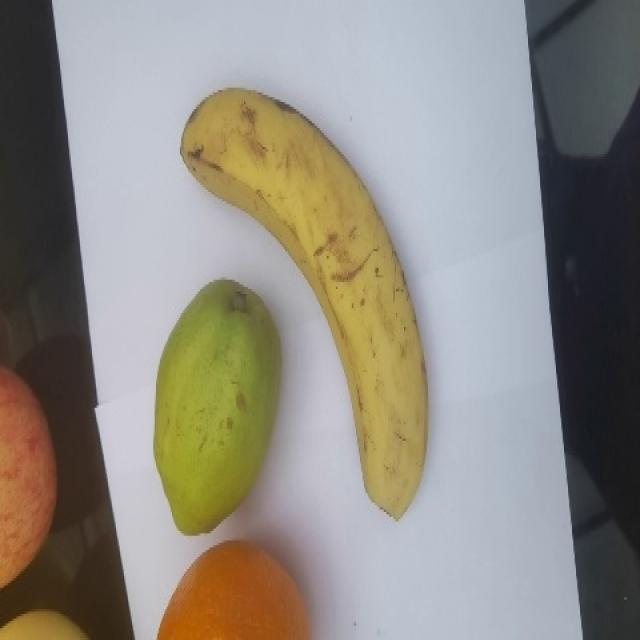Apple: (0, 366, 57, 585)
Banana: (177, 83, 430, 515)
Orange: (156, 536, 312, 640)
